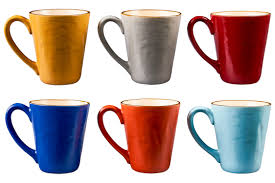mug: (1, 80, 112, 179), (89, 87, 193, 183), (96, 6, 191, 99), (176, 9, 275, 89), (7, 6, 94, 97), (182, 95, 269, 183)
